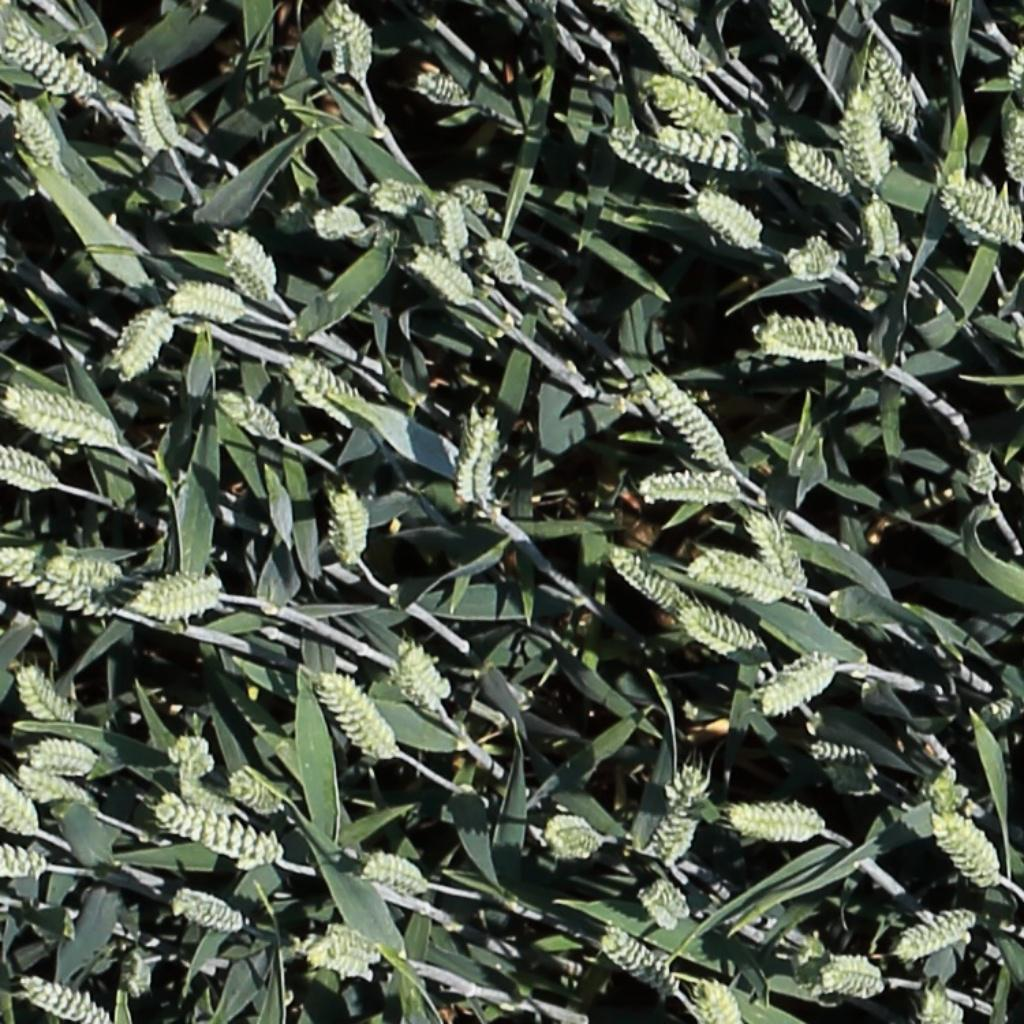0-0: (150, 786, 281, 865), (647, 368, 734, 465), (2, 541, 116, 612), (318, 671, 398, 763), (4, 21, 96, 101), (685, 543, 797, 599), (629, 2, 705, 79), (653, 763, 708, 869), (753, 312, 867, 363), (603, 925, 681, 998), (749, 507, 811, 596), (299, 914, 379, 982), (608, 544, 685, 613), (932, 813, 1003, 887), (731, 796, 831, 847), (653, 73, 733, 135), (9, 390, 114, 436), (116, 304, 177, 383), (939, 180, 1019, 240), (610, 125, 692, 181), (763, 658, 841, 715), (870, 47, 932, 118), (290, 356, 367, 413), (10, 404, 117, 445), (768, 0, 828, 73), (631, 467, 747, 504), (16, 974, 105, 1022), (330, 480, 381, 563), (457, 409, 501, 504), (395, 637, 453, 709), (659, 126, 763, 166), (10, 91, 64, 167), (218, 228, 279, 294), (682, 608, 767, 655), (387, 649, 443, 720), (16, 663, 76, 729), (787, 137, 853, 195), (410, 245, 476, 303), (163, 273, 245, 319), (134, 66, 176, 155), (331, 2, 375, 86), (15, 767, 98, 811), (898, 912, 977, 958), (844, 100, 880, 200), (697, 191, 763, 245), (134, 585, 221, 625), (357, 845, 428, 894), (535, 806, 603, 857), (916, 112, 967, 179), (41, 553, 126, 593), (110, 300, 162, 363), (217, 391, 282, 441), (783, 229, 843, 282), (0, 746, 35, 836), (820, 957, 886, 1003), (27, 738, 105, 776), (865, 189, 905, 263), (170, 892, 247, 929), (479, 233, 529, 289), (229, 772, 286, 816), (439, 187, 471, 262), (372, 173, 422, 220), (310, 205, 377, 239), (640, 883, 689, 929), (697, 973, 740, 1024), (866, 84, 902, 142), (415, 72, 473, 103), (0, 456, 57, 487), (179, 785, 232, 818), (1003, 102, 1024, 185), (933, 760, 959, 827), (969, 445, 998, 502), (921, 983, 961, 1024), (809, 744, 876, 768), (451, 180, 494, 214), (0, 847, 43, 875)
